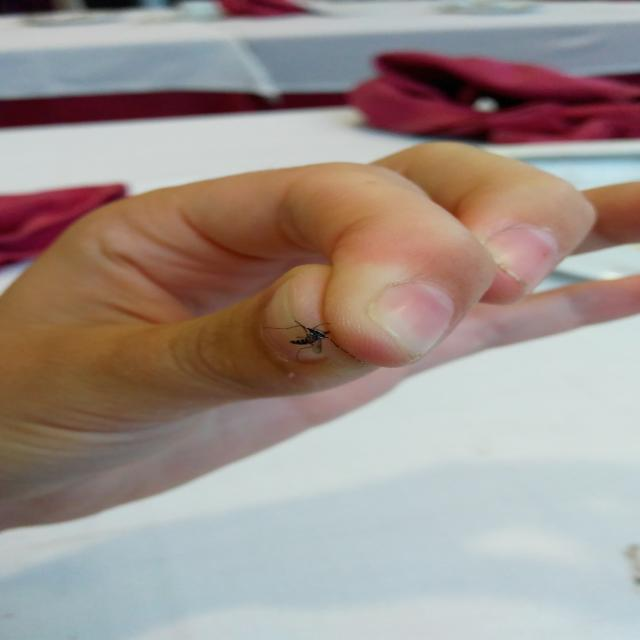albopictus: (259, 311, 364, 364)
